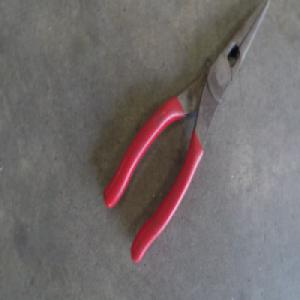Pliers: (102, 1, 272, 263)
